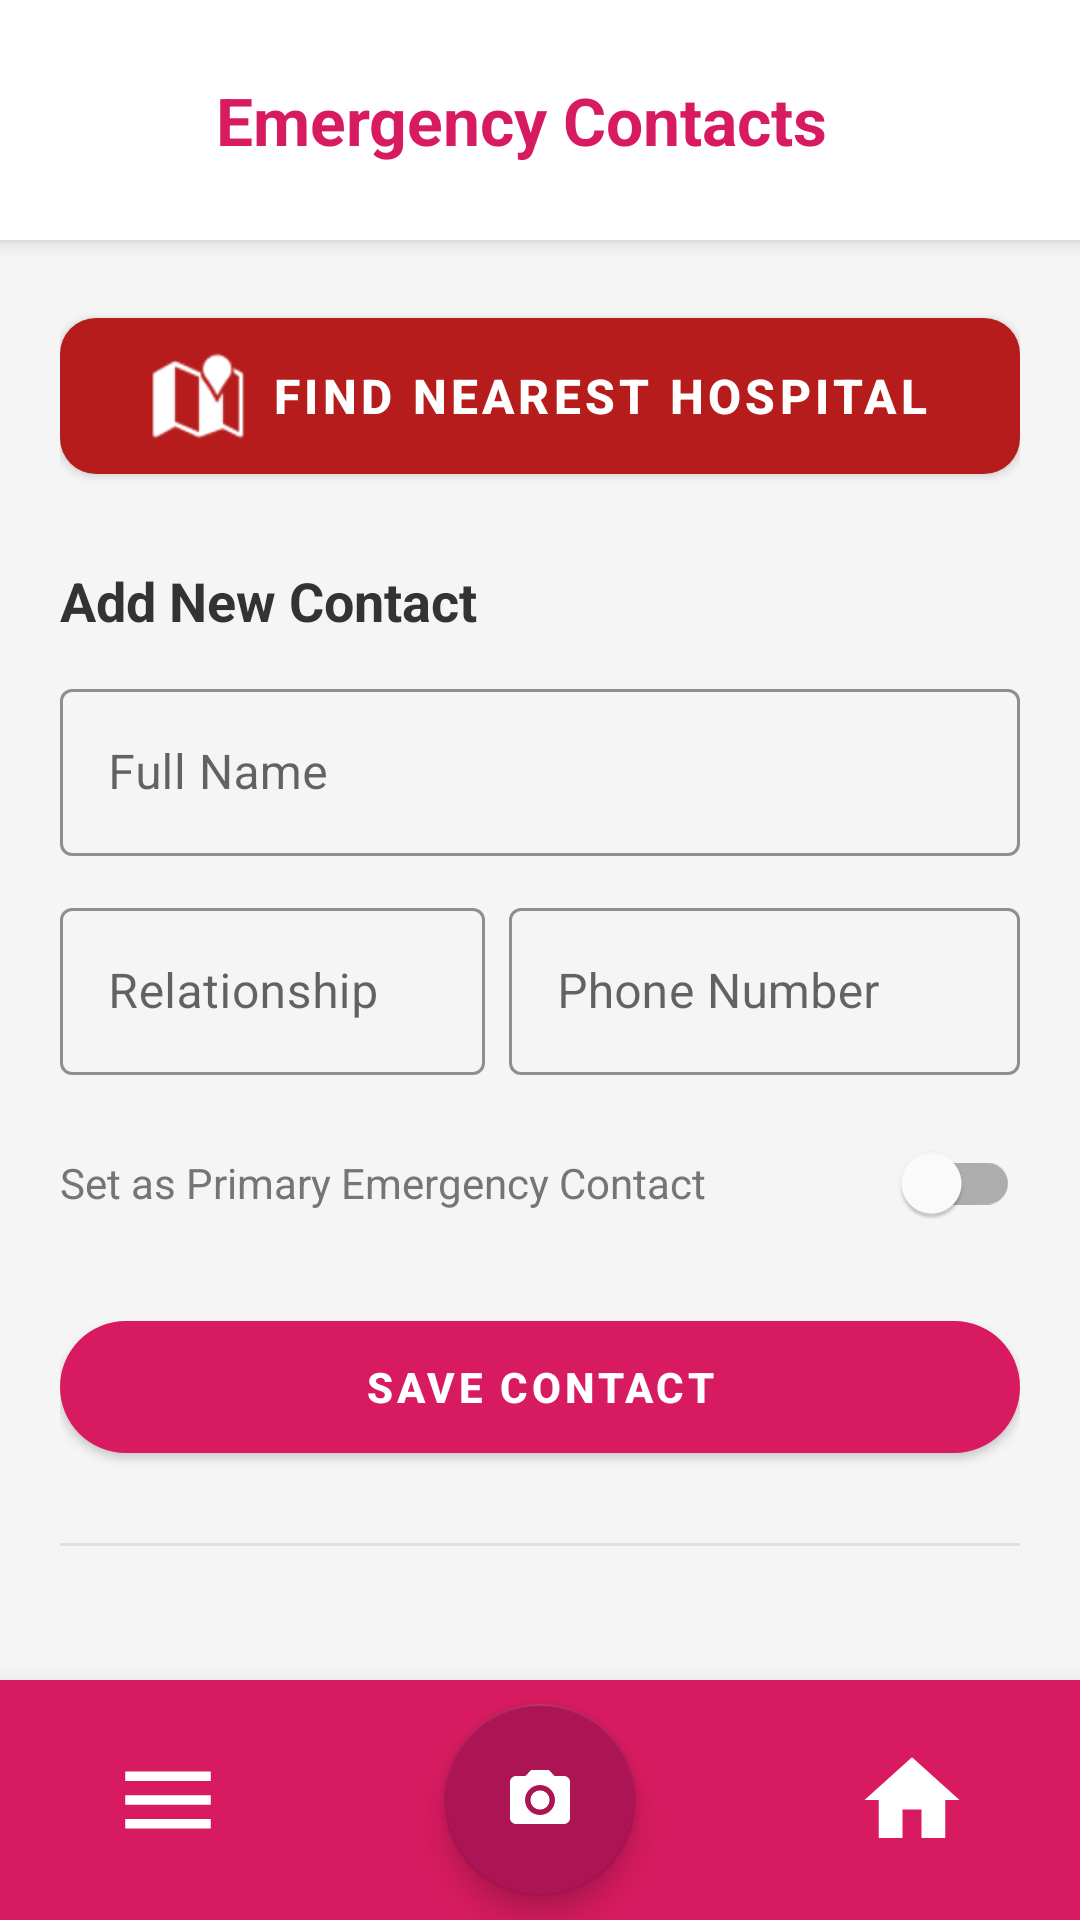

Icon click points for this 1080 × 1920 phone screenshot, format point (x, y):
camera: point (540, 1800)
home: point (912, 1797)
menu: point (168, 1800)
